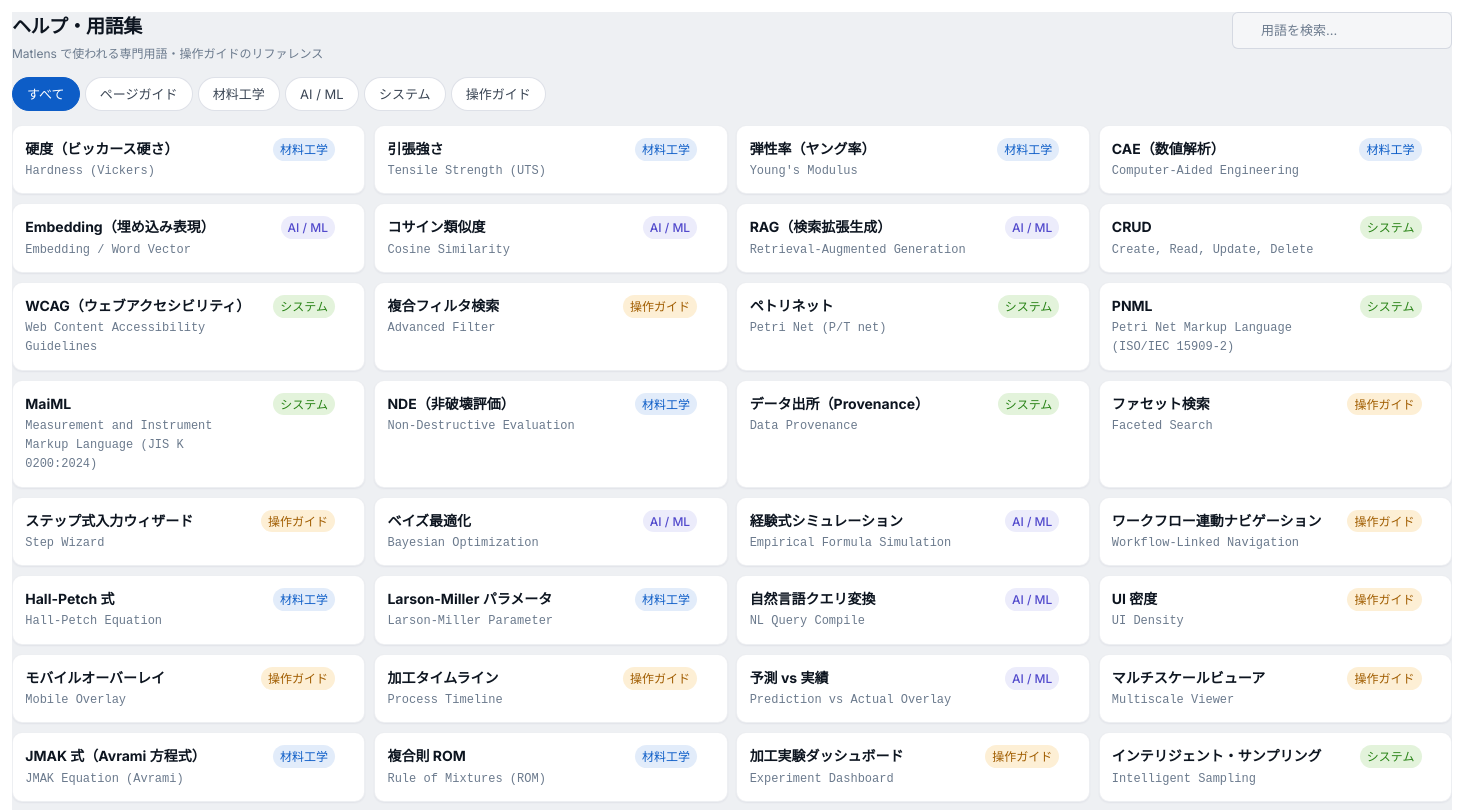
Test: HelpPage › clicking a guide card expands the detail panel inline
The image size is (1464, 810).
Click the tab "ページガイド". click: (139, 94)
box: [85,77,193,111]
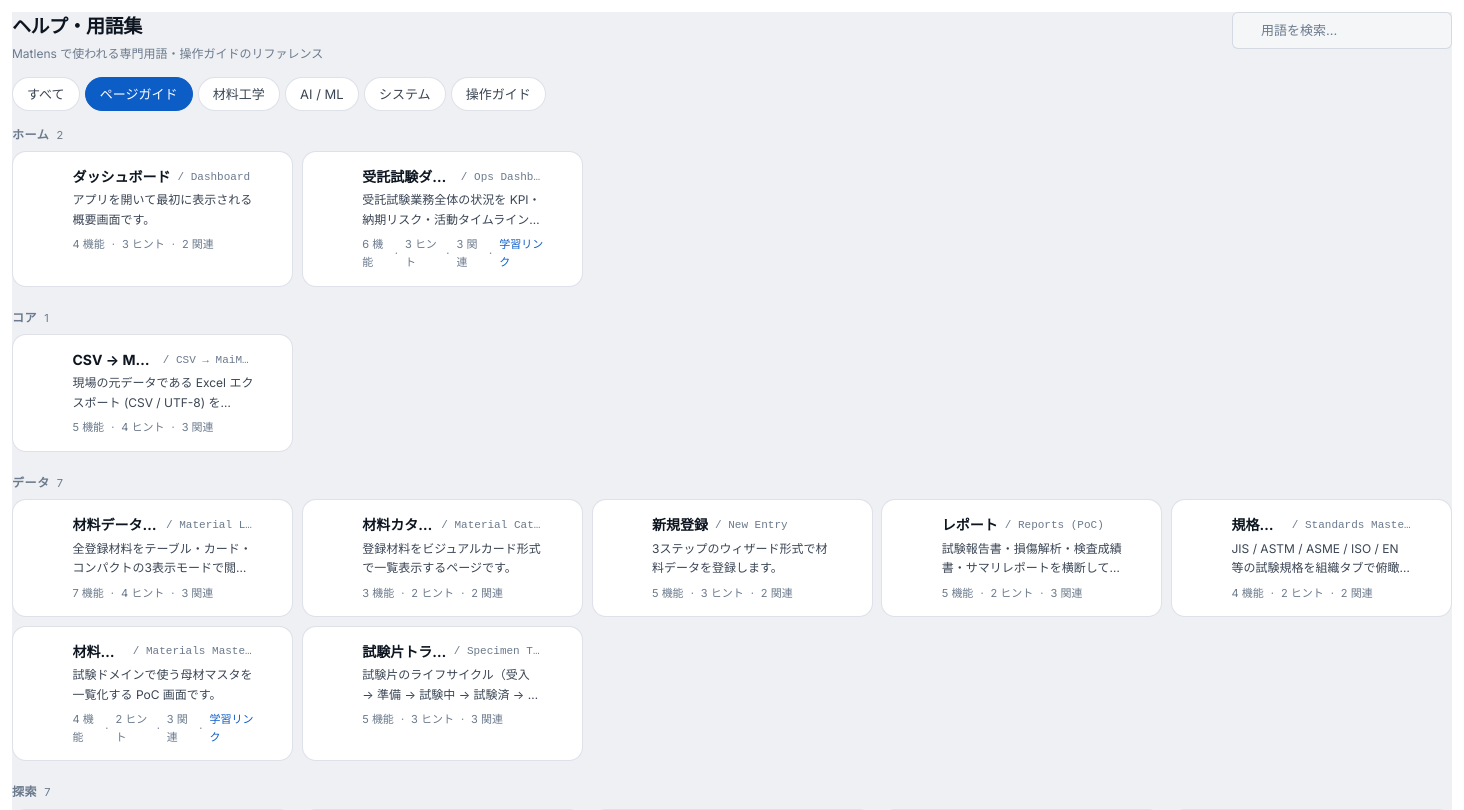
Result: the button that starts with "ダッシュボード" is shown
Click the button that starts with "ダッシュボード". click: (152, 210)
box: [13,152,292,268]
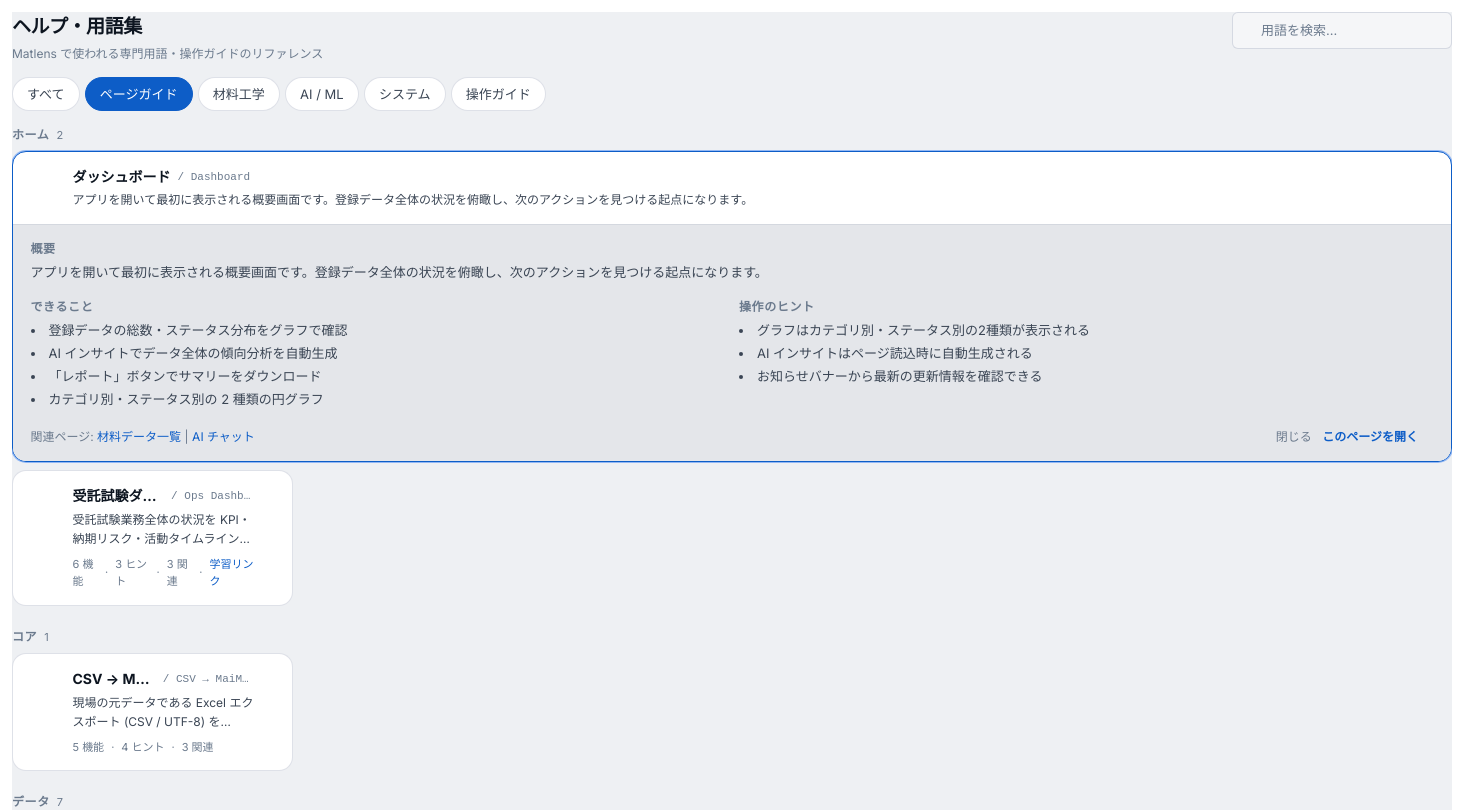
Result: the text "概要" is shown at [30,241,56,256]
Result: the text "できること" is shown at [30,299,93,314]
Result: the text "操作のヒント" is shown at [739,299,815,314]
